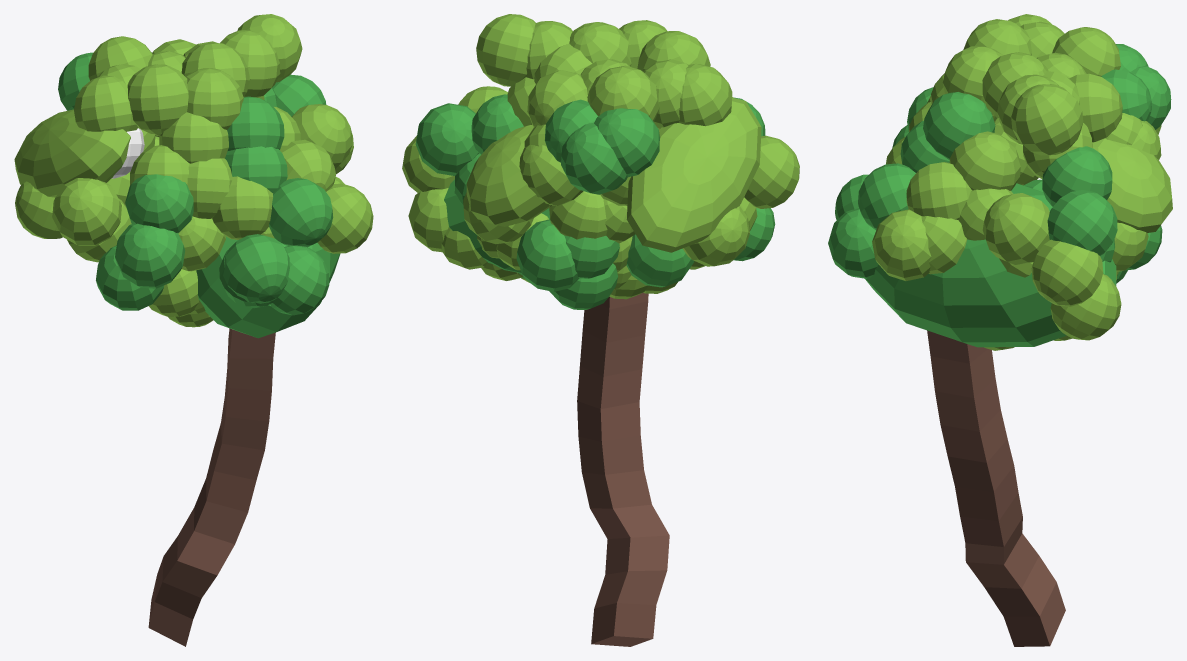
3 renders of one model, left to right at view 1: azimuth 30°, elevation 25°; view 2: azimuth 150°, elevation 25°; view 3: azimuth 270°, elevation 25°, orthographic. The views are drawn at different scales.
Visible parts, largest first — view 1: group_609944983, mesh_630574642, mesh_2120187349, mesh_1934883528, mesh_936829798, mesh_90257728, mesh_1377927749, mesh_1664578709, mesh_49008945, mesh_604696205, mesh_1678519831, mesh_1577476261 (+21 smaller); view 2: group_609944983, mesh_630574642, mesh_1144236211, mesh_861489780, mesh_1539106699, mesh_1445022820, mesh_2065517339, mesh_1063010089, mesh_1934883528, mesh_1415229794, mesh_604696205, mesh_1215002984 (+25 smaller); view 3: group_609944983, mesh_2120187349, mesh_1144236211, mesh_1539106699, mesh_134991306, mesh_1873188950, mesh_861489780, mesh_2004284218, mesh_343026260, mesh_146738531, mesh_390491985, mesh_1076886440 (+24 smaller).
Boxes of the visible parts, bbox=[...] form: group_609944983: bbox=[148, 328, 275, 646]; mesh_630574642: bbox=[14, 109, 130, 197]; mesh_2120187349: bbox=[196, 236, 340, 338]; mesh_1934883528: bbox=[52, 178, 121, 245]; mesh_936829798: bbox=[223, 234, 289, 303]; mesh_90257728: bbox=[115, 223, 185, 288]; mesh_1377927749: bbox=[269, 178, 333, 247]; mesh_1664578709: bbox=[127, 64, 188, 134]; mesh_49008945: bbox=[125, 174, 193, 233]; mesh_604696205: bbox=[74, 75, 137, 131]; mesh_1678519831: bbox=[212, 176, 272, 239]; mesh_1577476261: bbox=[270, 245, 329, 315]; group_609944983: bbox=[577, 293, 669, 646]; mesh_630574642: bbox=[626, 97, 761, 252]; mesh_1144236211: bbox=[466, 124, 551, 226]; mesh_861489780: bbox=[415, 103, 479, 175]; mesh_1539106699: bbox=[476, 14, 535, 86]; mesh_1445022820: bbox=[561, 122, 627, 194]; mesh_2065517339: bbox=[516, 219, 579, 291]; mesh_1063010089: bbox=[594, 108, 659, 177]; mesh_1934883528: bbox=[744, 135, 799, 208]; mesh_1415229794: bbox=[587, 65, 659, 121]; mesh_604696205: bbox=[679, 63, 732, 126]; mesh_1215002984: bbox=[519, 145, 583, 205]; group_609944983: bbox=[927, 330, 1065, 646]; mesh_2120187349: bbox=[865, 183, 1116, 347]; mesh_1144236211: bbox=[1092, 138, 1172, 232]; mesh_1539106699: bbox=[1011, 84, 1083, 155]; mesh_134991306: bbox=[982, 193, 1049, 264]; mesh_1873188950: bbox=[1031, 239, 1103, 306]; mesh_861489780: bbox=[1047, 190, 1117, 255]; mesh_2004284218: bbox=[872, 209, 931, 280]; mesh_343026260: bbox=[949, 131, 1020, 190]; mesh_146738531: bbox=[923, 92, 995, 159]; mesh_390491985: bbox=[906, 162, 971, 219]; mesh_1076886440: bbox=[1042, 146, 1112, 206].
Size of the model in its own units: 43.38 by 74.01 by 38.02.
